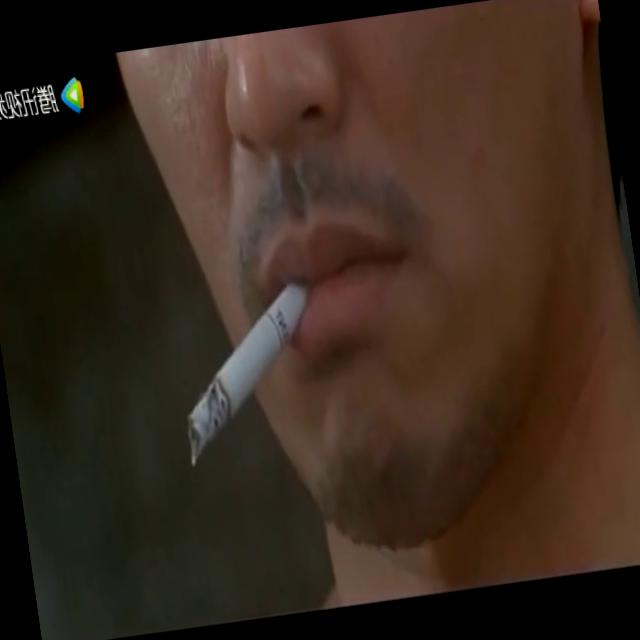cigarette: (171, 283, 317, 464)
